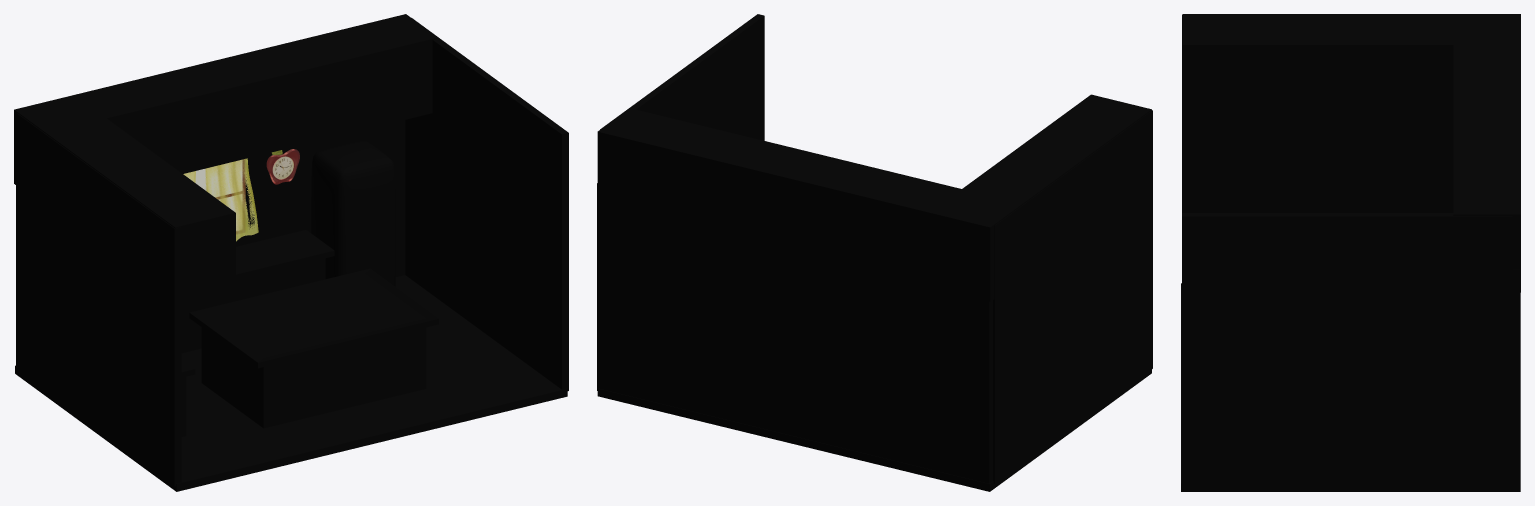
Rendered from Kitchen.fbx.
3 renders of one model, left to right at view 1: azimuth 30°, elevation 25°; view 2: azimuth 150°, elevation 25°; view 3: azimuth 270°, elevation 25°, orthographic. The views are drawn at different scales.
Parts seen in each view (by area): view 1: pCube8, pCube9, pCube10, pCube4, pCube5, pCube2, pCube6, pCube1, pPlane2, pPlane1; view 2: pCube6, pCube8, pCube9, pCube10, pCube5; view 3: pCube10, pCube8, pCube9, pCube3, pCube5, pCube6.
Part boxes in pixels (bbox=[...]): pCube8: bbox=[14, 14, 438, 299]; pCube9: bbox=[17, 113, 181, 486]; pCube10: bbox=[405, 18, 568, 390]; pCube4: bbox=[189, 268, 438, 428]; pCube5: bbox=[15, 275, 567, 491]; pCube2: bbox=[311, 140, 396, 286]; pCube6: bbox=[16, 120, 405, 366]; pCube1: bbox=[181, 230, 334, 436]; pPlane2: bbox=[183, 158, 258, 241]; pPlane1: bbox=[266, 149, 299, 184]; pCube6: bbox=[597, 183, 992, 483]; pCube8: bbox=[597, 94, 1151, 301]; pCube9: bbox=[993, 110, 1152, 483]; pCube10: bbox=[600, 14, 764, 140]; pCube5: bbox=[597, 369, 1151, 491]; pCube10: bbox=[1182, 213, 1512, 487]; pCube8: bbox=[1182, 14, 1520, 292]; pCube9: bbox=[1182, 14, 1453, 212]; pCube3: bbox=[1276, 123, 1453, 186]; pCube5: bbox=[1181, 283, 1520, 491]; pCube6: bbox=[1512, 269, 1520, 487].
Bounding box in the file's own units: 1438 × 921 × 1023.
Materials: 11 (2 with a texture image).
